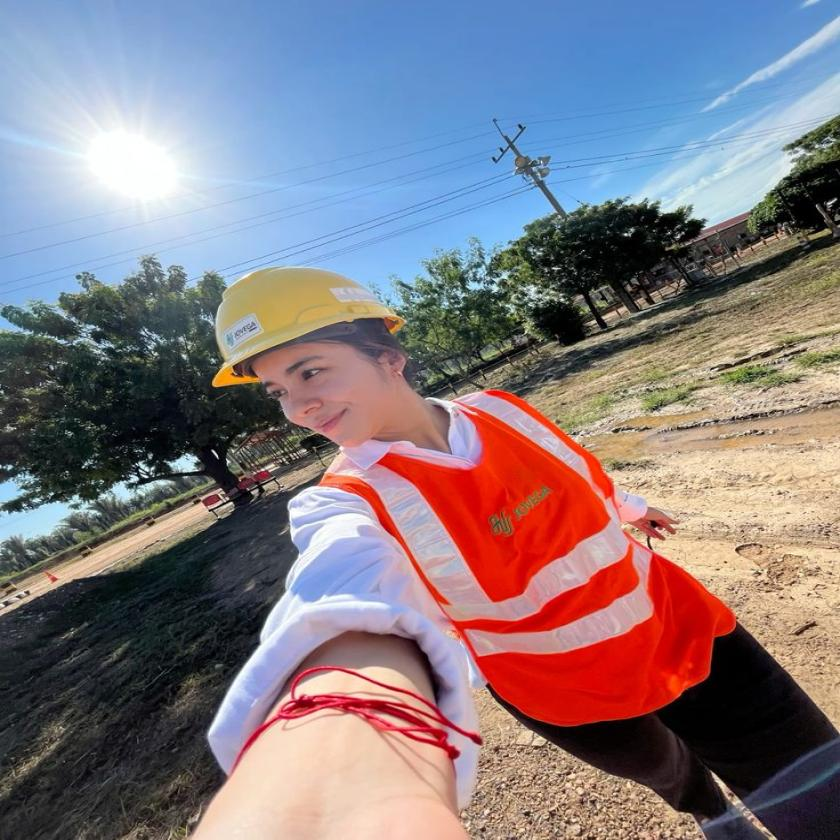Con_casco: (174, 248, 443, 460)
